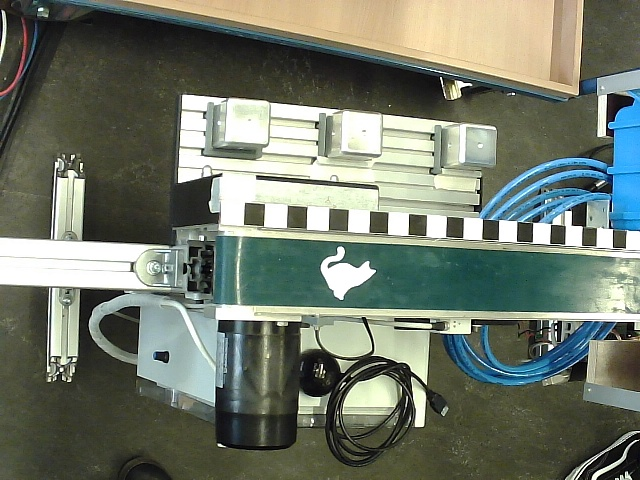cat: (320, 245, 376, 300)
